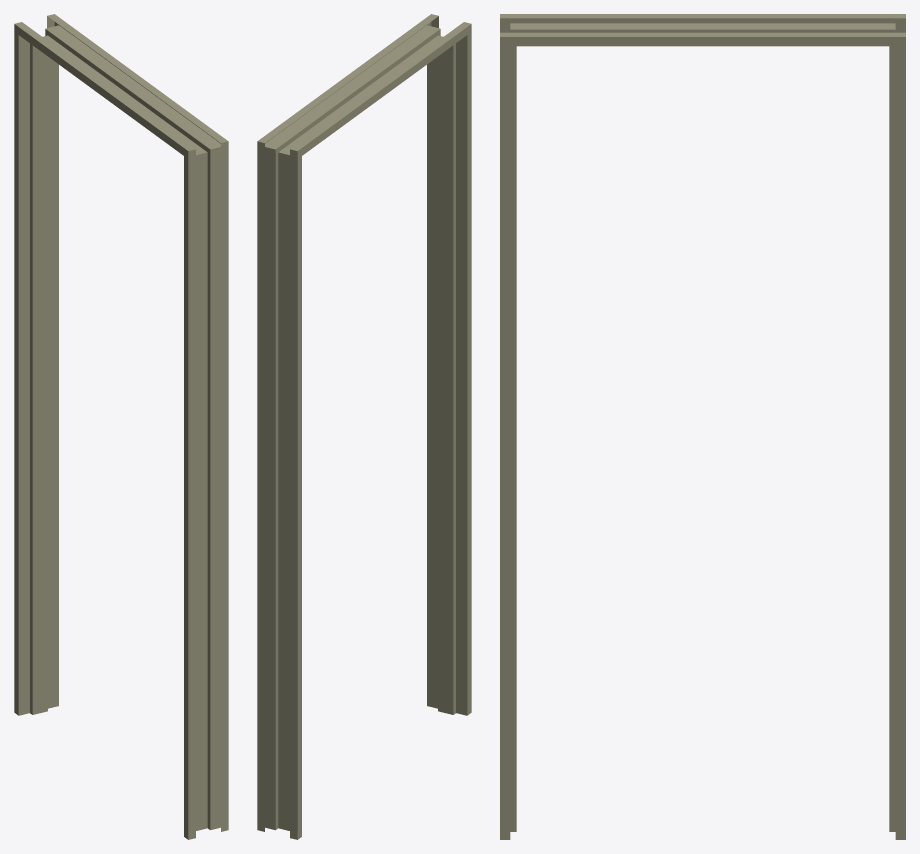
The model's file is door1-waku.FBX.
3 renders of one model, left to right at view 1: azimuth 30°, elevation 25°; view 2: azimuth 150°, elevation 25°; view 3: azimuth 270°, elevation 25°, orthographic. The views are drawn at different scales.
Visible parts, largest first — view 1: 48:5:5; view 2: 48:5:5; view 3: 48:5:5.
Boxes of the visible parts, left/top/right/bottom form: 48:5:5: left=14, top=14, right=228, bottom=839; 48:5:5: left=257, top=14, right=471, bottom=839; 48:5:5: left=500, top=14, right=905, bottom=839.
Bounding box in the file's own units: 5.16 × 84.25 × 38.58.
